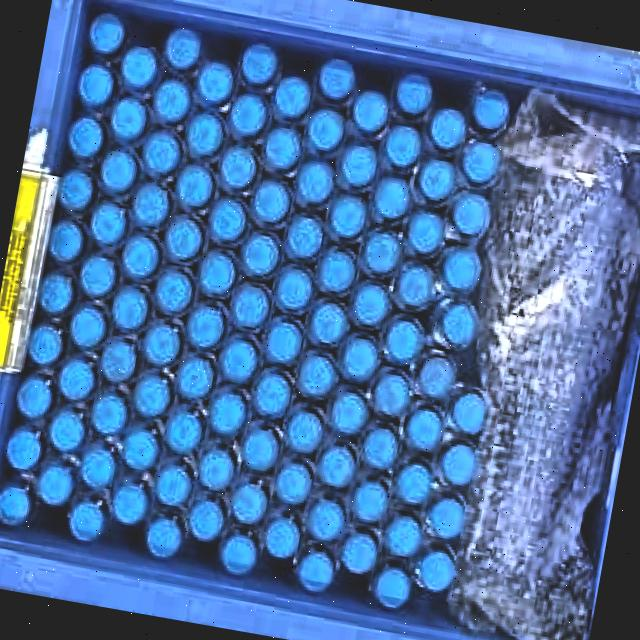vial: (436, 439, 483, 486), (402, 403, 444, 453), (218, 335, 259, 383), (120, 232, 160, 280), (427, 496, 469, 541), (450, 190, 491, 236), (371, 369, 411, 416), (341, 334, 381, 380), (162, 217, 204, 260), (413, 549, 456, 591), (109, 288, 150, 332), (174, 163, 214, 208), (262, 125, 302, 170), (108, 93, 148, 138), (142, 128, 181, 174), (152, 77, 191, 123), (59, 355, 98, 401), (45, 220, 86, 263), (53, 170, 96, 211), (426, 107, 466, 151), (350, 281, 390, 325), (439, 246, 478, 291), (296, 354, 335, 399), (142, 320, 181, 365), (307, 107, 345, 153), (285, 410, 323, 456), (449, 388, 486, 435), (383, 318, 424, 360), (469, 88, 509, 131), (460, 141, 500, 184), (34, 464, 74, 507), (131, 180, 169, 225), (118, 44, 156, 89), (16, 374, 54, 419), (416, 158, 456, 200), (418, 357, 458, 399), (176, 356, 216, 398), (196, 59, 235, 102), (372, 566, 411, 609), (65, 498, 104, 541), (133, 374, 172, 417), (296, 161, 334, 205), (286, 215, 324, 259), (229, 93, 267, 137), (311, 299, 349, 343), (393, 463, 431, 507), (209, 198, 246, 243), (78, 253, 115, 298), (184, 112, 223, 154), (5, 427, 43, 470), (155, 269, 193, 312), (98, 148, 135, 192), (252, 178, 288, 223), (252, 373, 288, 418), (101, 338, 137, 383), (374, 175, 409, 221), (363, 233, 402, 274), (165, 412, 204, 453), (351, 90, 389, 132), (404, 211, 442, 253), (316, 446, 354, 488), (208, 393, 246, 435), (220, 145, 257, 188), (242, 232, 279, 275), (296, 550, 333, 593), (266, 322, 302, 366), (111, 482, 147, 526), (274, 464, 314, 503), (317, 251, 355, 292), (90, 203, 128, 244), (332, 393, 370, 434), (164, 27, 201, 69), (198, 252, 235, 294), (330, 194, 366, 237), (275, 268, 311, 311), (66, 114, 102, 157), (241, 430, 276, 474), (441, 302, 476, 346), (144, 519, 182, 559), (395, 72, 432, 113), (396, 266, 433, 307), (383, 515, 420, 556), (240, 41, 276, 83), (78, 63, 114, 105), (122, 429, 158, 471), (187, 306, 223, 348), (231, 482, 266, 525), (154, 466, 192, 505), (351, 482, 388, 522), (308, 499, 344, 540), (197, 449, 233, 490), (233, 285, 269, 326), (340, 144, 375, 186), (89, 12, 124, 54), (39, 270, 73, 313), (68, 307, 104, 347), (274, 75, 309, 116), (319, 57, 354, 98), (363, 427, 398, 468), (189, 501, 224, 542), (49, 410, 84, 451), (385, 125, 419, 167), (92, 395, 128, 432), (265, 519, 299, 557), (222, 536, 256, 574), (342, 533, 375, 572), (0, 484, 30, 526), (80, 450, 115, 486), (27, 326, 58, 364)
